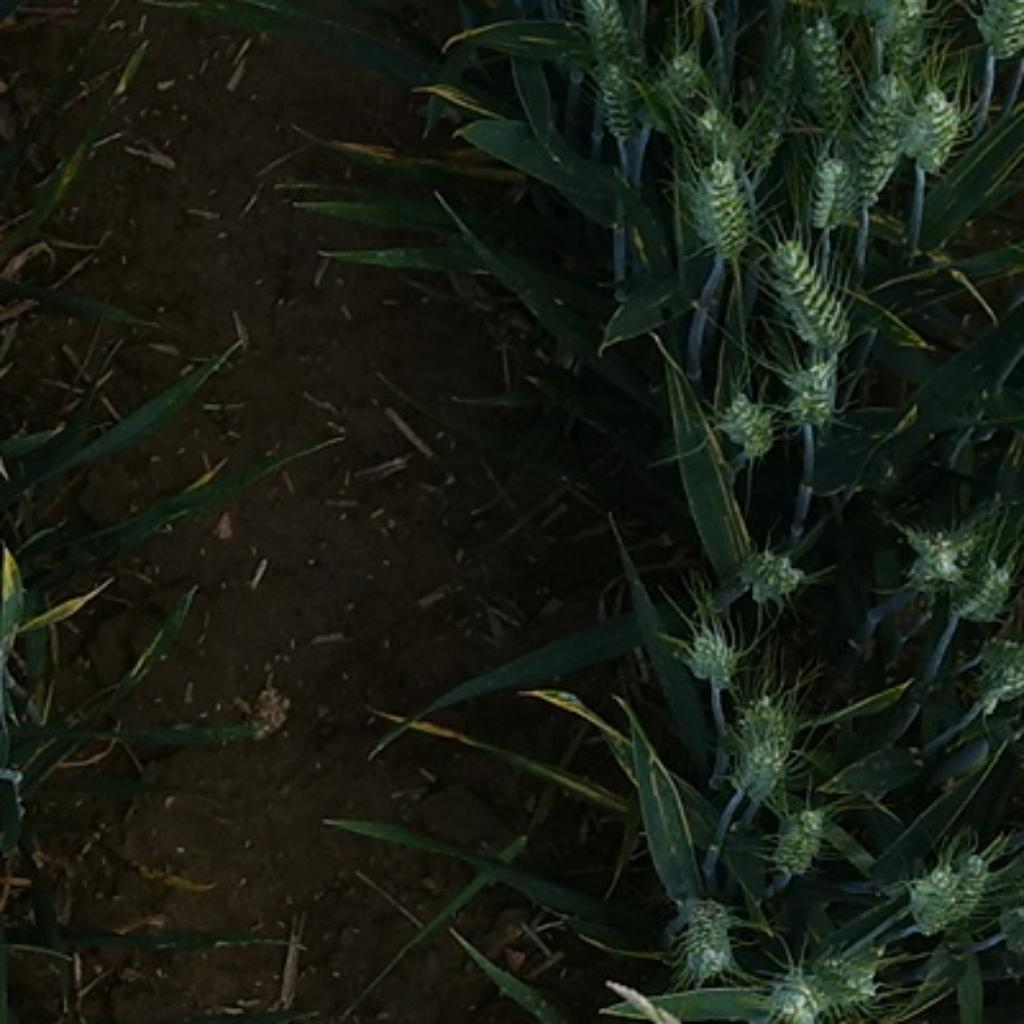0-0: (755, 230, 857, 355), (719, 683, 803, 801), (673, 145, 760, 258), (898, 84, 985, 176), (849, 94, 916, 207), (791, 138, 862, 240), (801, 2, 852, 138), (896, 509, 990, 582), (750, 33, 798, 171), (584, 60, 651, 144), (665, 896, 729, 983), (765, 798, 834, 878), (778, 348, 847, 427), (903, 857, 972, 935), (872, 2, 936, 79), (716, 391, 783, 460), (578, 2, 646, 69), (739, 543, 811, 606), (688, 99, 755, 166), (678, 622, 744, 688), (951, 568, 1020, 625), (762, 968, 830, 1024), (972, 635, 1024, 706), (956, 842, 998, 927), (655, 46, 714, 97), (827, 945, 880, 996), (980, 2, 1021, 53)
